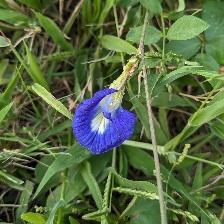shankupushpam: (73, 54, 139, 155)
